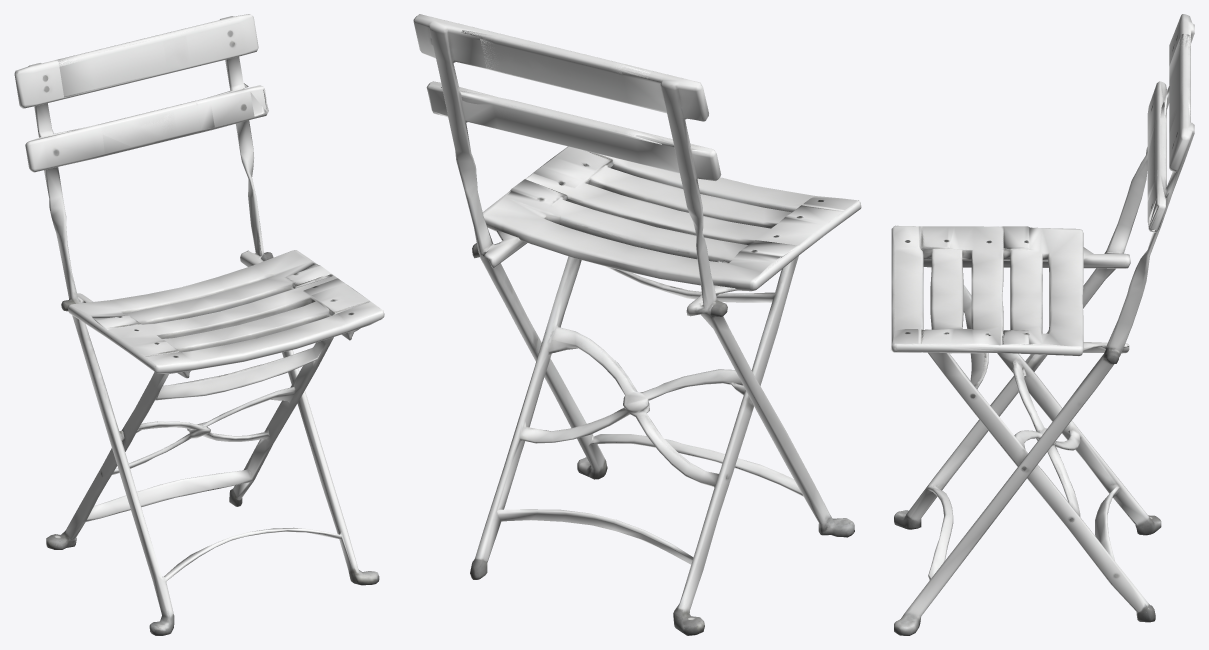
The model's file is Chair_White_Garden_S_0320031453_texture.glb.
3 renders of one model, left to right at view 1: azimuth 30°, elevation 25°; view 2: azimuth 150°, elevation 25°; view 3: azimuth 270°, elevation 25°, orthographic. The views are drawn at different scales.
Visible parts, largest first — view 1: Mesh_0.004; view 2: Mesh_0.004; view 3: Mesh_0.004.
Boxes of the visible parts, bbox=[...] form: Mesh_0.004: bbox=[14, 14, 384, 635]; Mesh_0.004: bbox=[413, 14, 861, 635]; Mesh_0.004: bbox=[890, 14, 1194, 635].
Size of the model in its own units: 0.4825 by 0.9144 by 0.4994.
Materials: 1 (1 with a texture image).
